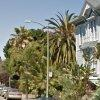Tree: (6, 15, 78, 76)
